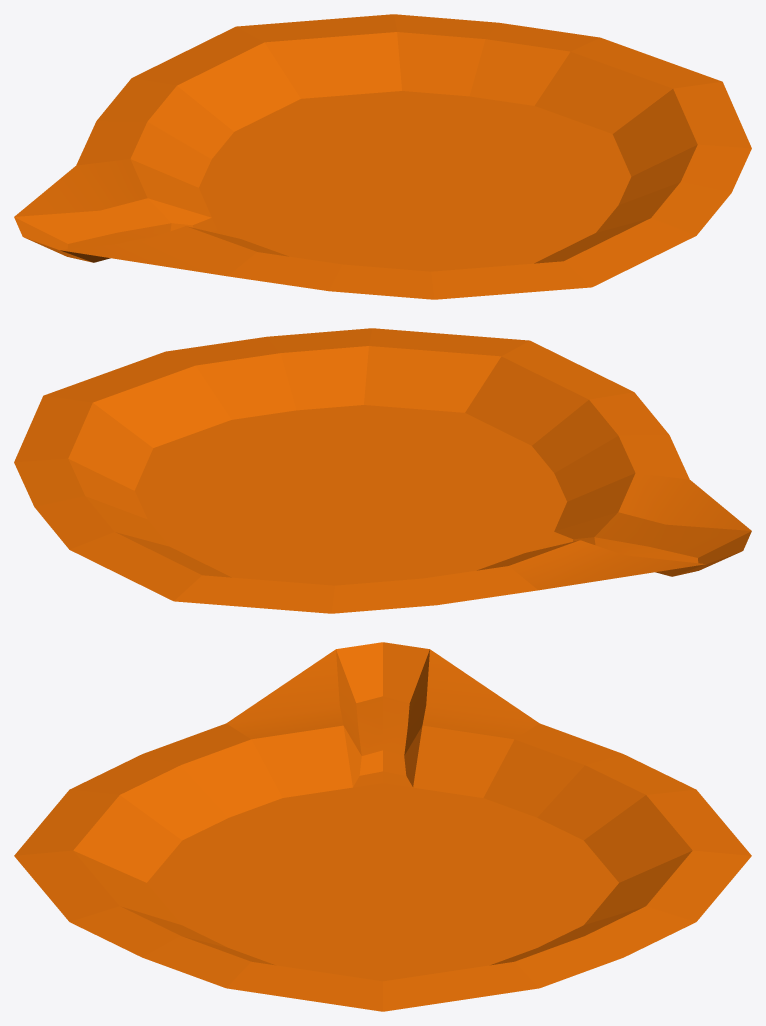
File: SM_Arena.fbx
3 views of the same model, one above another, from view 1: azimuth 30°, elevation 25°; view 2: azimuth 150°, elevation 25°; view 3: azimuth 270°, elevation 25° (orthographic). The views are drawn at different scales.
Parts seen in each view (by area): view 1: UV_Arena; view 2: UV_Arena; view 3: UV_Arena.
Part boxes in pixels (x1,y1,x2,y2): UV_Arena: [14, 14, 751, 299]; UV_Arena: [14, 328, 751, 613]; UV_Arena: [14, 642, 751, 1011].
Bounding box in the file's own units: 1134 × 63.61 × 1000.
